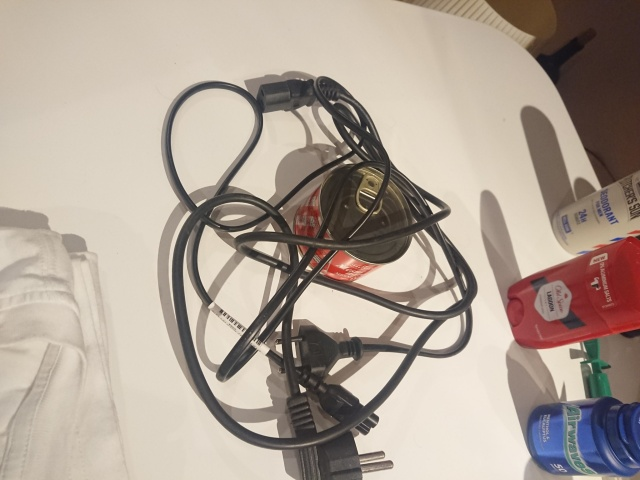Podravka Luncheon Meat 150g: (288, 161, 417, 285)
